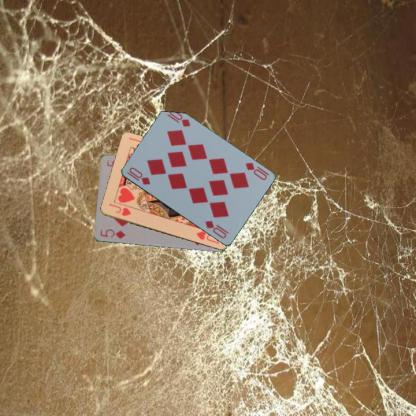10d: (124, 164, 152, 186), (243, 160, 268, 181)
5d: (97, 226, 127, 240)
Jh: (106, 200, 132, 218)
